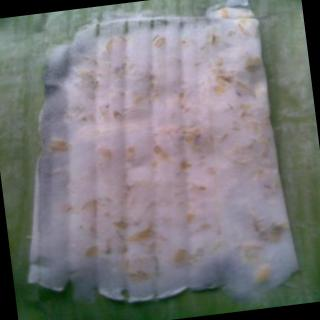Tempe: (4, 1, 304, 320)
